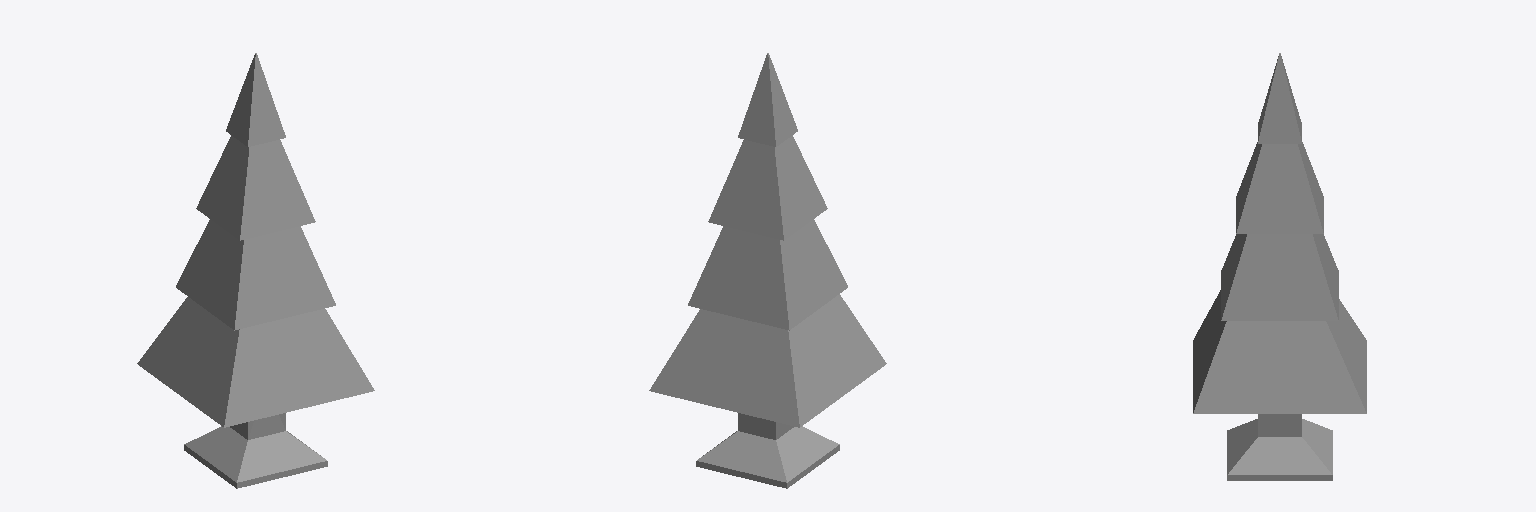
The model's file is tree.obj.
The picture shows the model from 3 angles: view 1: azimuth 30°, elevation 25°; view 2: azimuth 150°, elevation 25°; view 3: azimuth 270°, elevation 25°; orthographic projection.
Parts seen in each view (by area): view 1: Cube, Cube.001; view 2: Cube, Cube.001; view 3: Cube, Cube.001.
Part boxes in pixels (x1,y1,x2,y2): Cube: (137,53,374,488); Cube.001: (184,413,327,488); Cube: (649,53,886,427); Cube.001: (696,413,839,488); Cube: (1193,53,1366,413); Cube.001: (1227,414,1332,480).
Size of the model in its own units: 2 by 5.13 by 2.